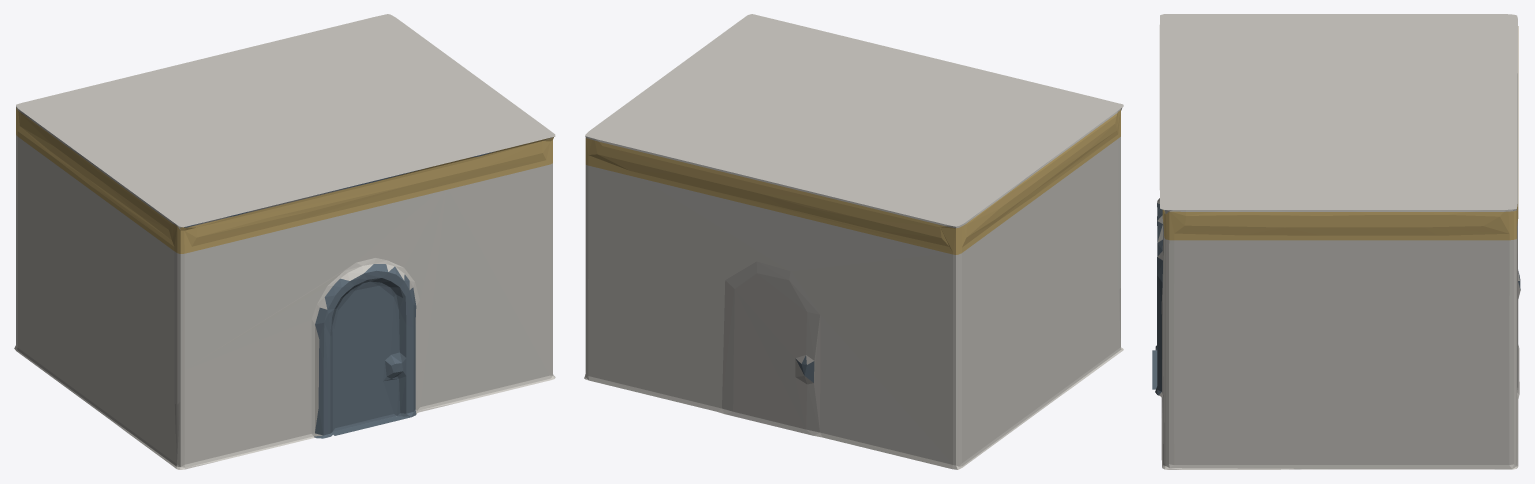
The model's file is etape-1.glb.
The picture shows the model from 3 angles, left to right: view 1: azimuth 30°, elevation 25°; view 2: azimuth 150°, elevation 25°; view 3: azimuth 270°, elevation 25°; orthographic projection. The views are drawn at different scales.
Visible parts, largest first — view 1: geometry_0; view 2: geometry_0; view 3: geometry_0.
Part boxes in pixels (left/top/right/bottom): geometry_0: left=14, top=14, right=555, bottom=469; geometry_0: left=584, top=14, right=1123, bottom=469; geometry_0: left=1152, top=14, right=1520, bottom=469.
Size of the model in its own units: 0.8138 by 0.4998 by 0.6428.
